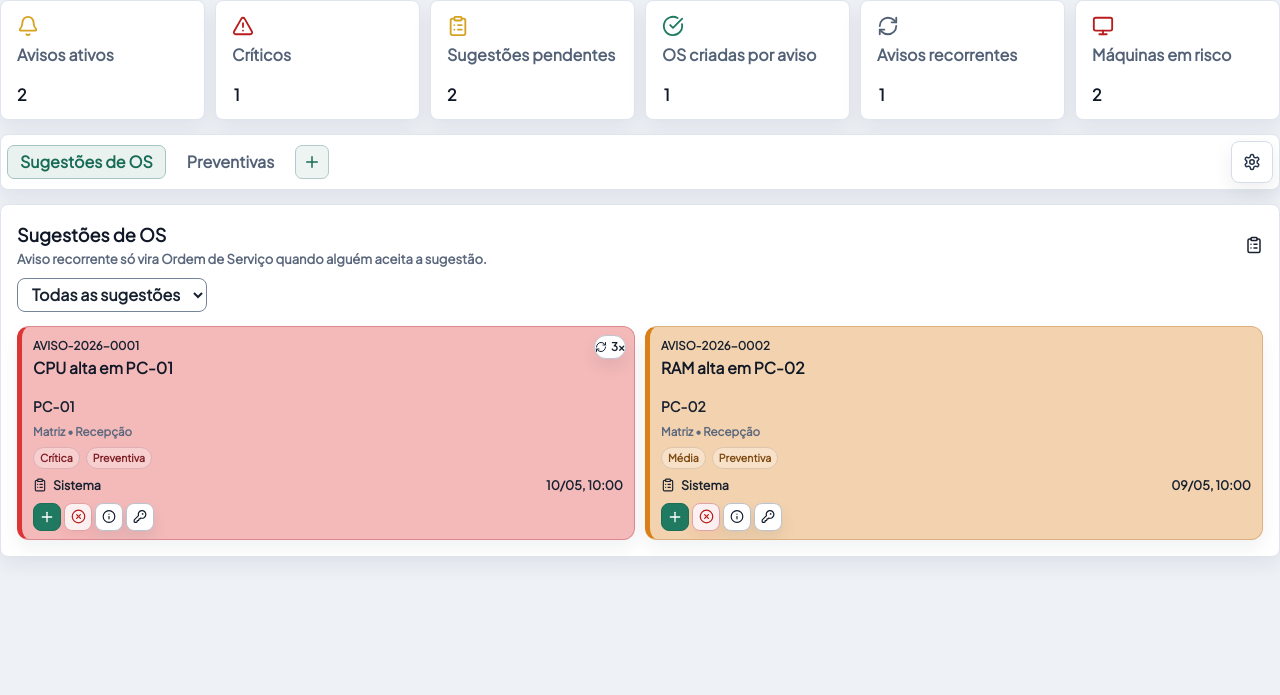
Test: Preventivas - etapa 1 (seleção de máquinas) › filtra por busca textual e por status
Click the button "Preventivas" at (231, 162), box [174, 145, 287, 179]
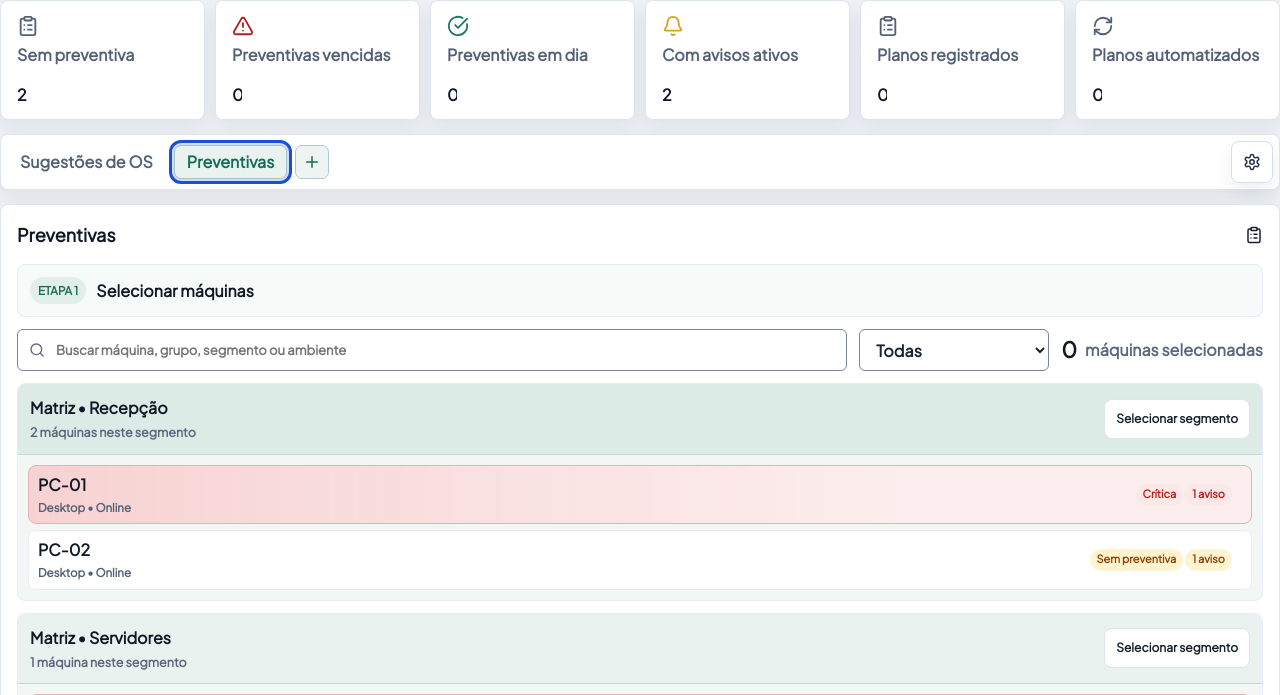
Type "servidores" into the field with placeholder "Buscar máquina, grupo, segmento ou ambiente" at (432, 350), box [17, 329, 847, 371]
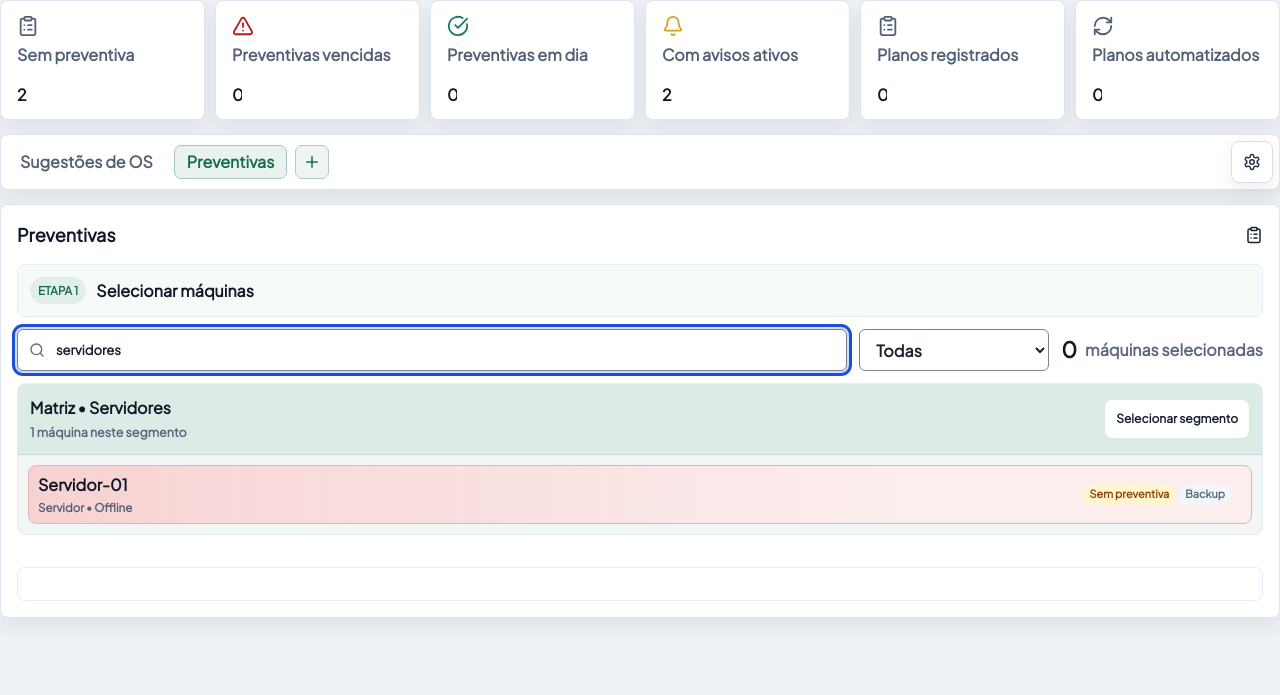
Expected: the text "Servidor-01" is shown, [38, 474, 128, 495]
Expected: the button "PC-01" is gone
Clear the field with placeholder "Buscar máquina, grupo, segmento ou ambiente" at (432, 350), box [17, 329, 847, 371]
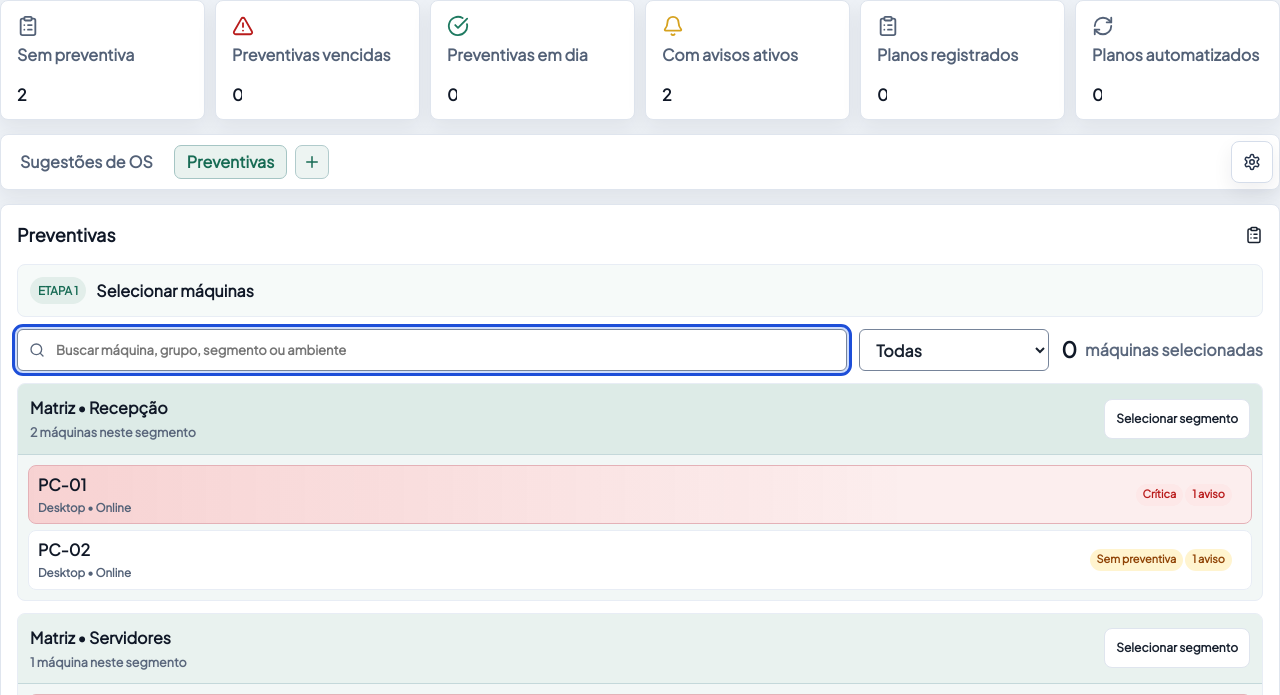
Select "Backup" in the dropdown named "Filtrar status preventivo" at (954, 350), box [859, 329, 1049, 371]
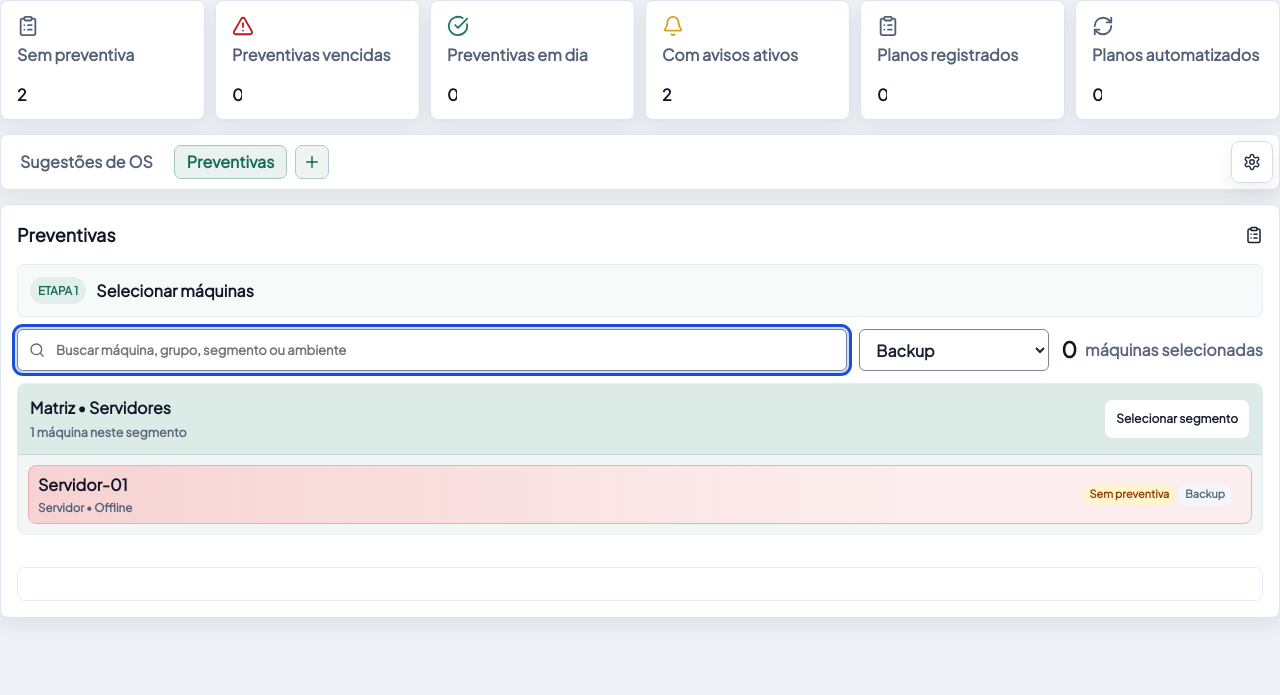
Expected: the text "Servidor-01" is shown, [38, 474, 128, 495]
Expected: the button "PC-02" is gone
Select "Em dia" in the dropdown named "Filtrar status preventivo" at (954, 350), box [859, 329, 1049, 371]
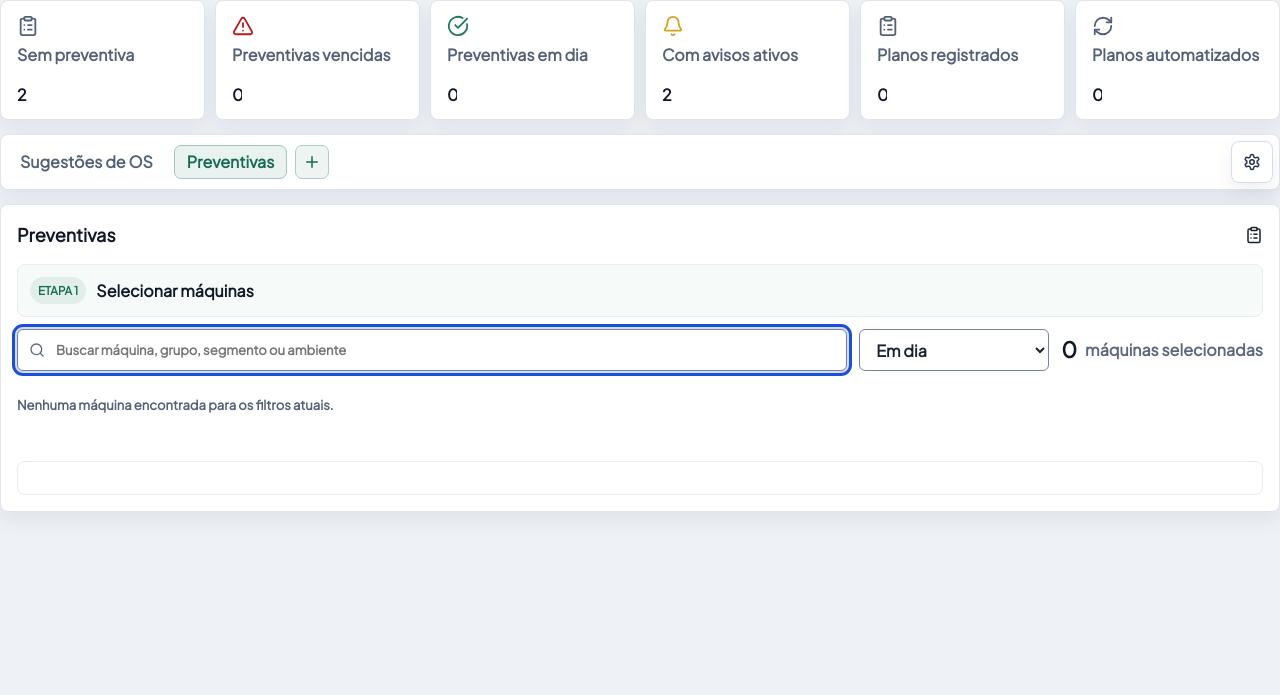
Expected: the text "Nenhuma máquina encontrada para os filtros atuais." is shown, [17, 397, 334, 413]
